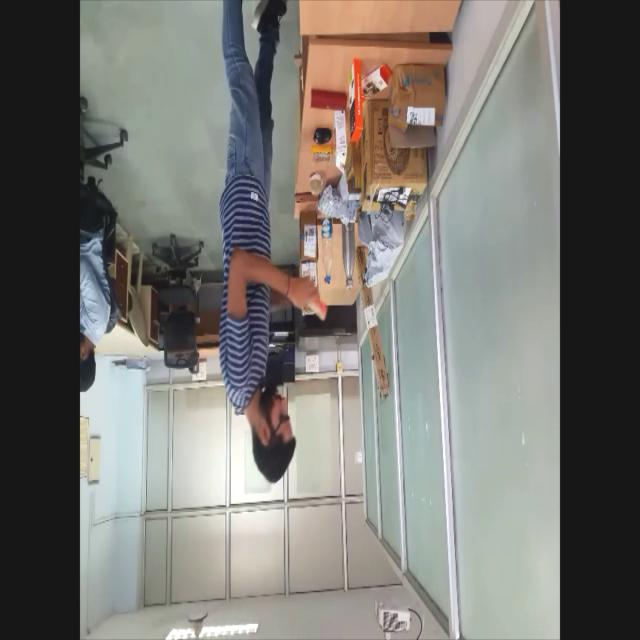normal: (214, 0, 328, 484)
